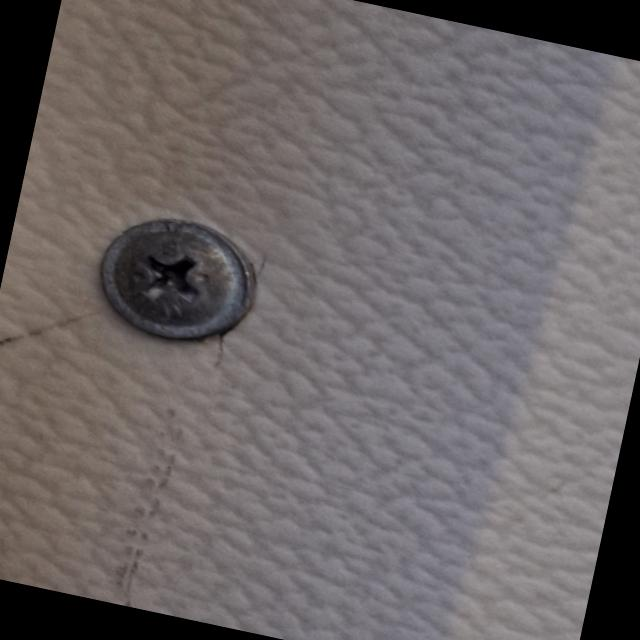Phillips: (79, 196, 270, 372)
